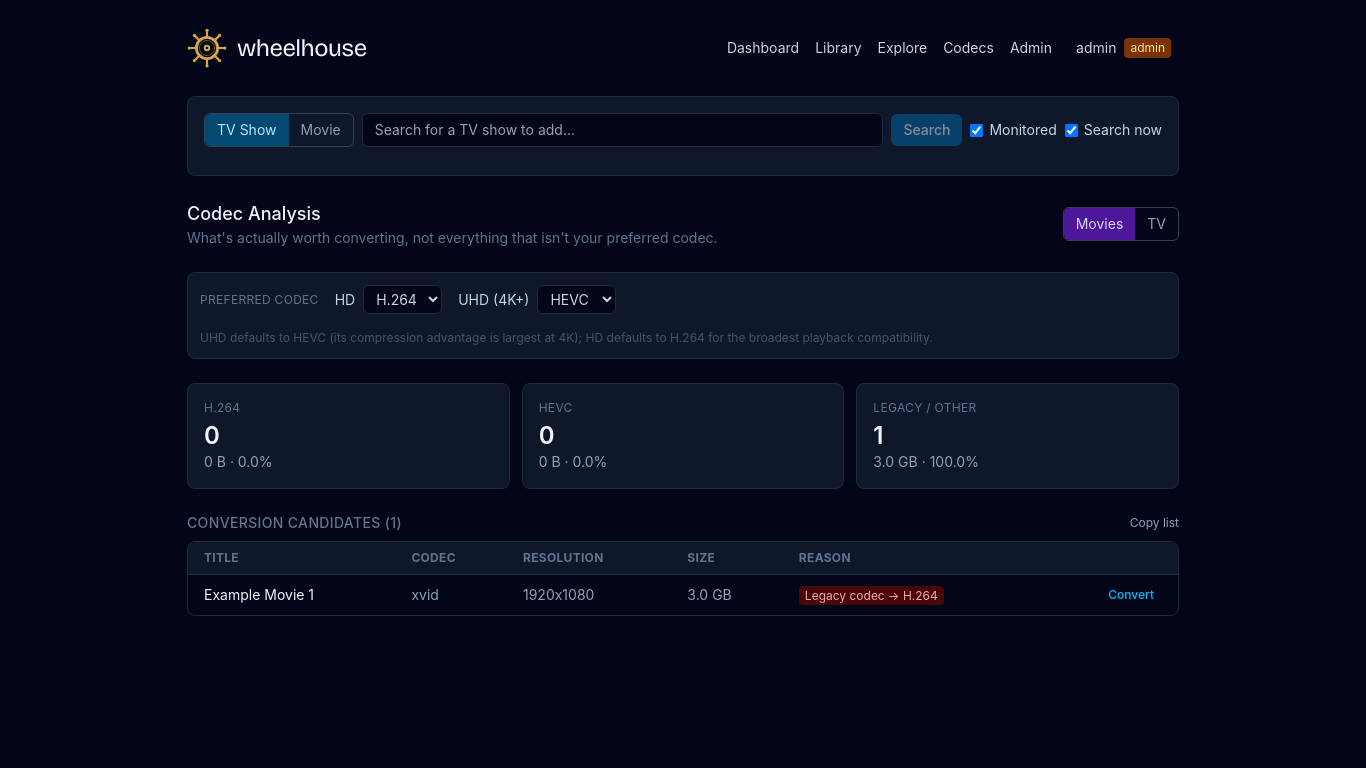
Test: Codecs › shows a refusal from the server
The image size is (1366, 768).
Click the button "Convert" at (1131, 595), box left=1100, top=583, right=1162, bottom=607
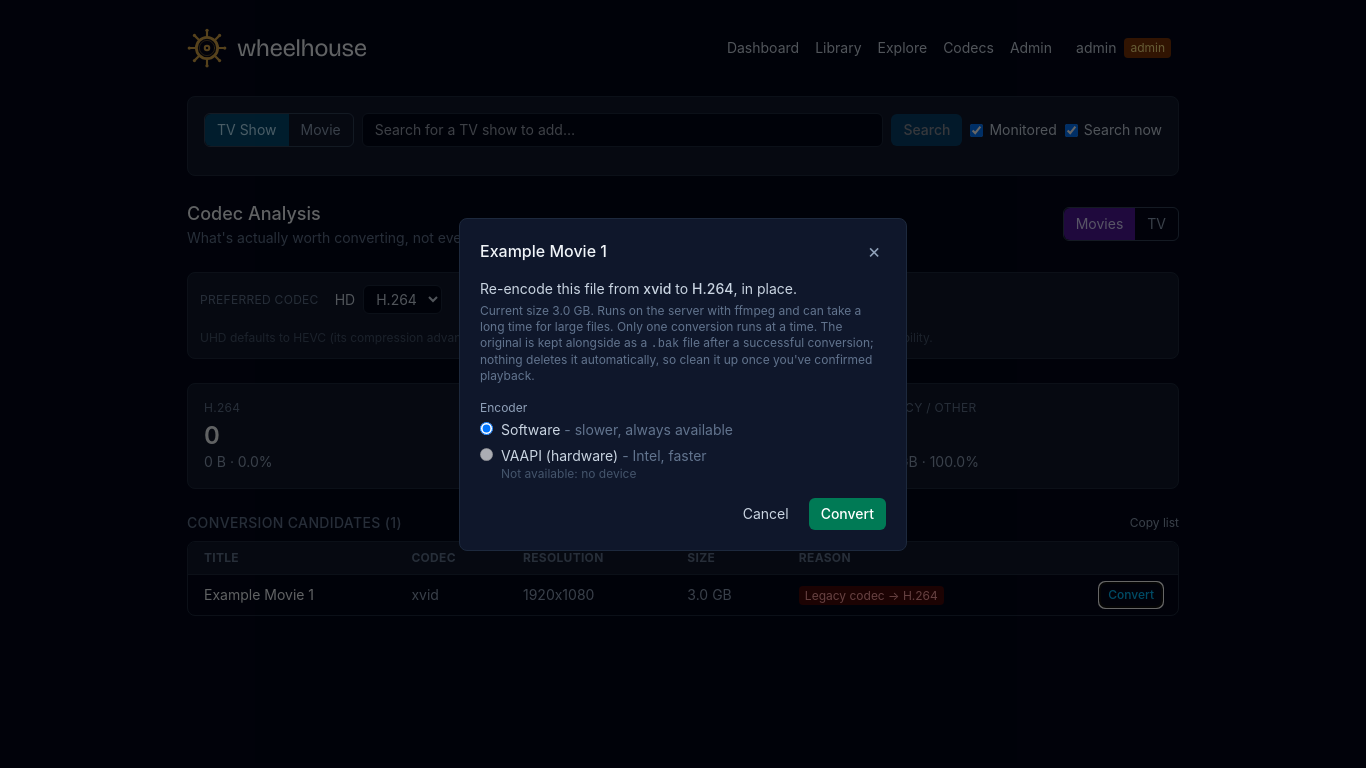
Click the button "Convert" at (847, 514), box left=809, top=498, right=886, bottom=530
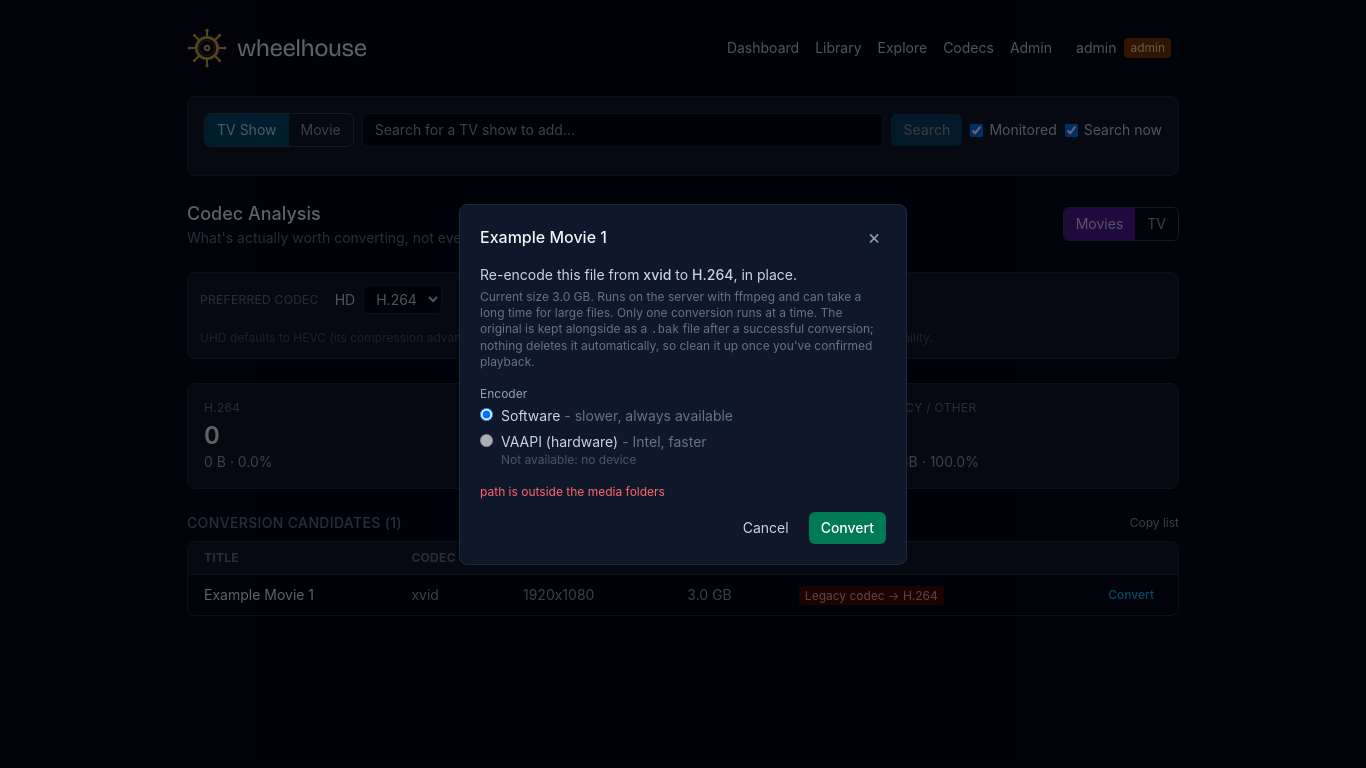
Now the text "path is outside the media folders" is shown, box left=480, top=484, right=665, bottom=498
